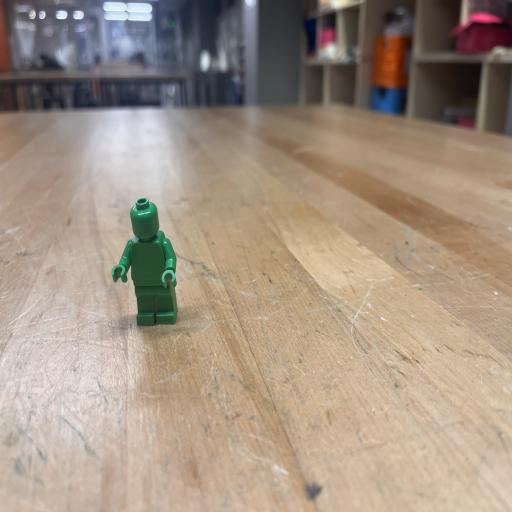Lego-Minifig: (111, 197, 177, 325)
